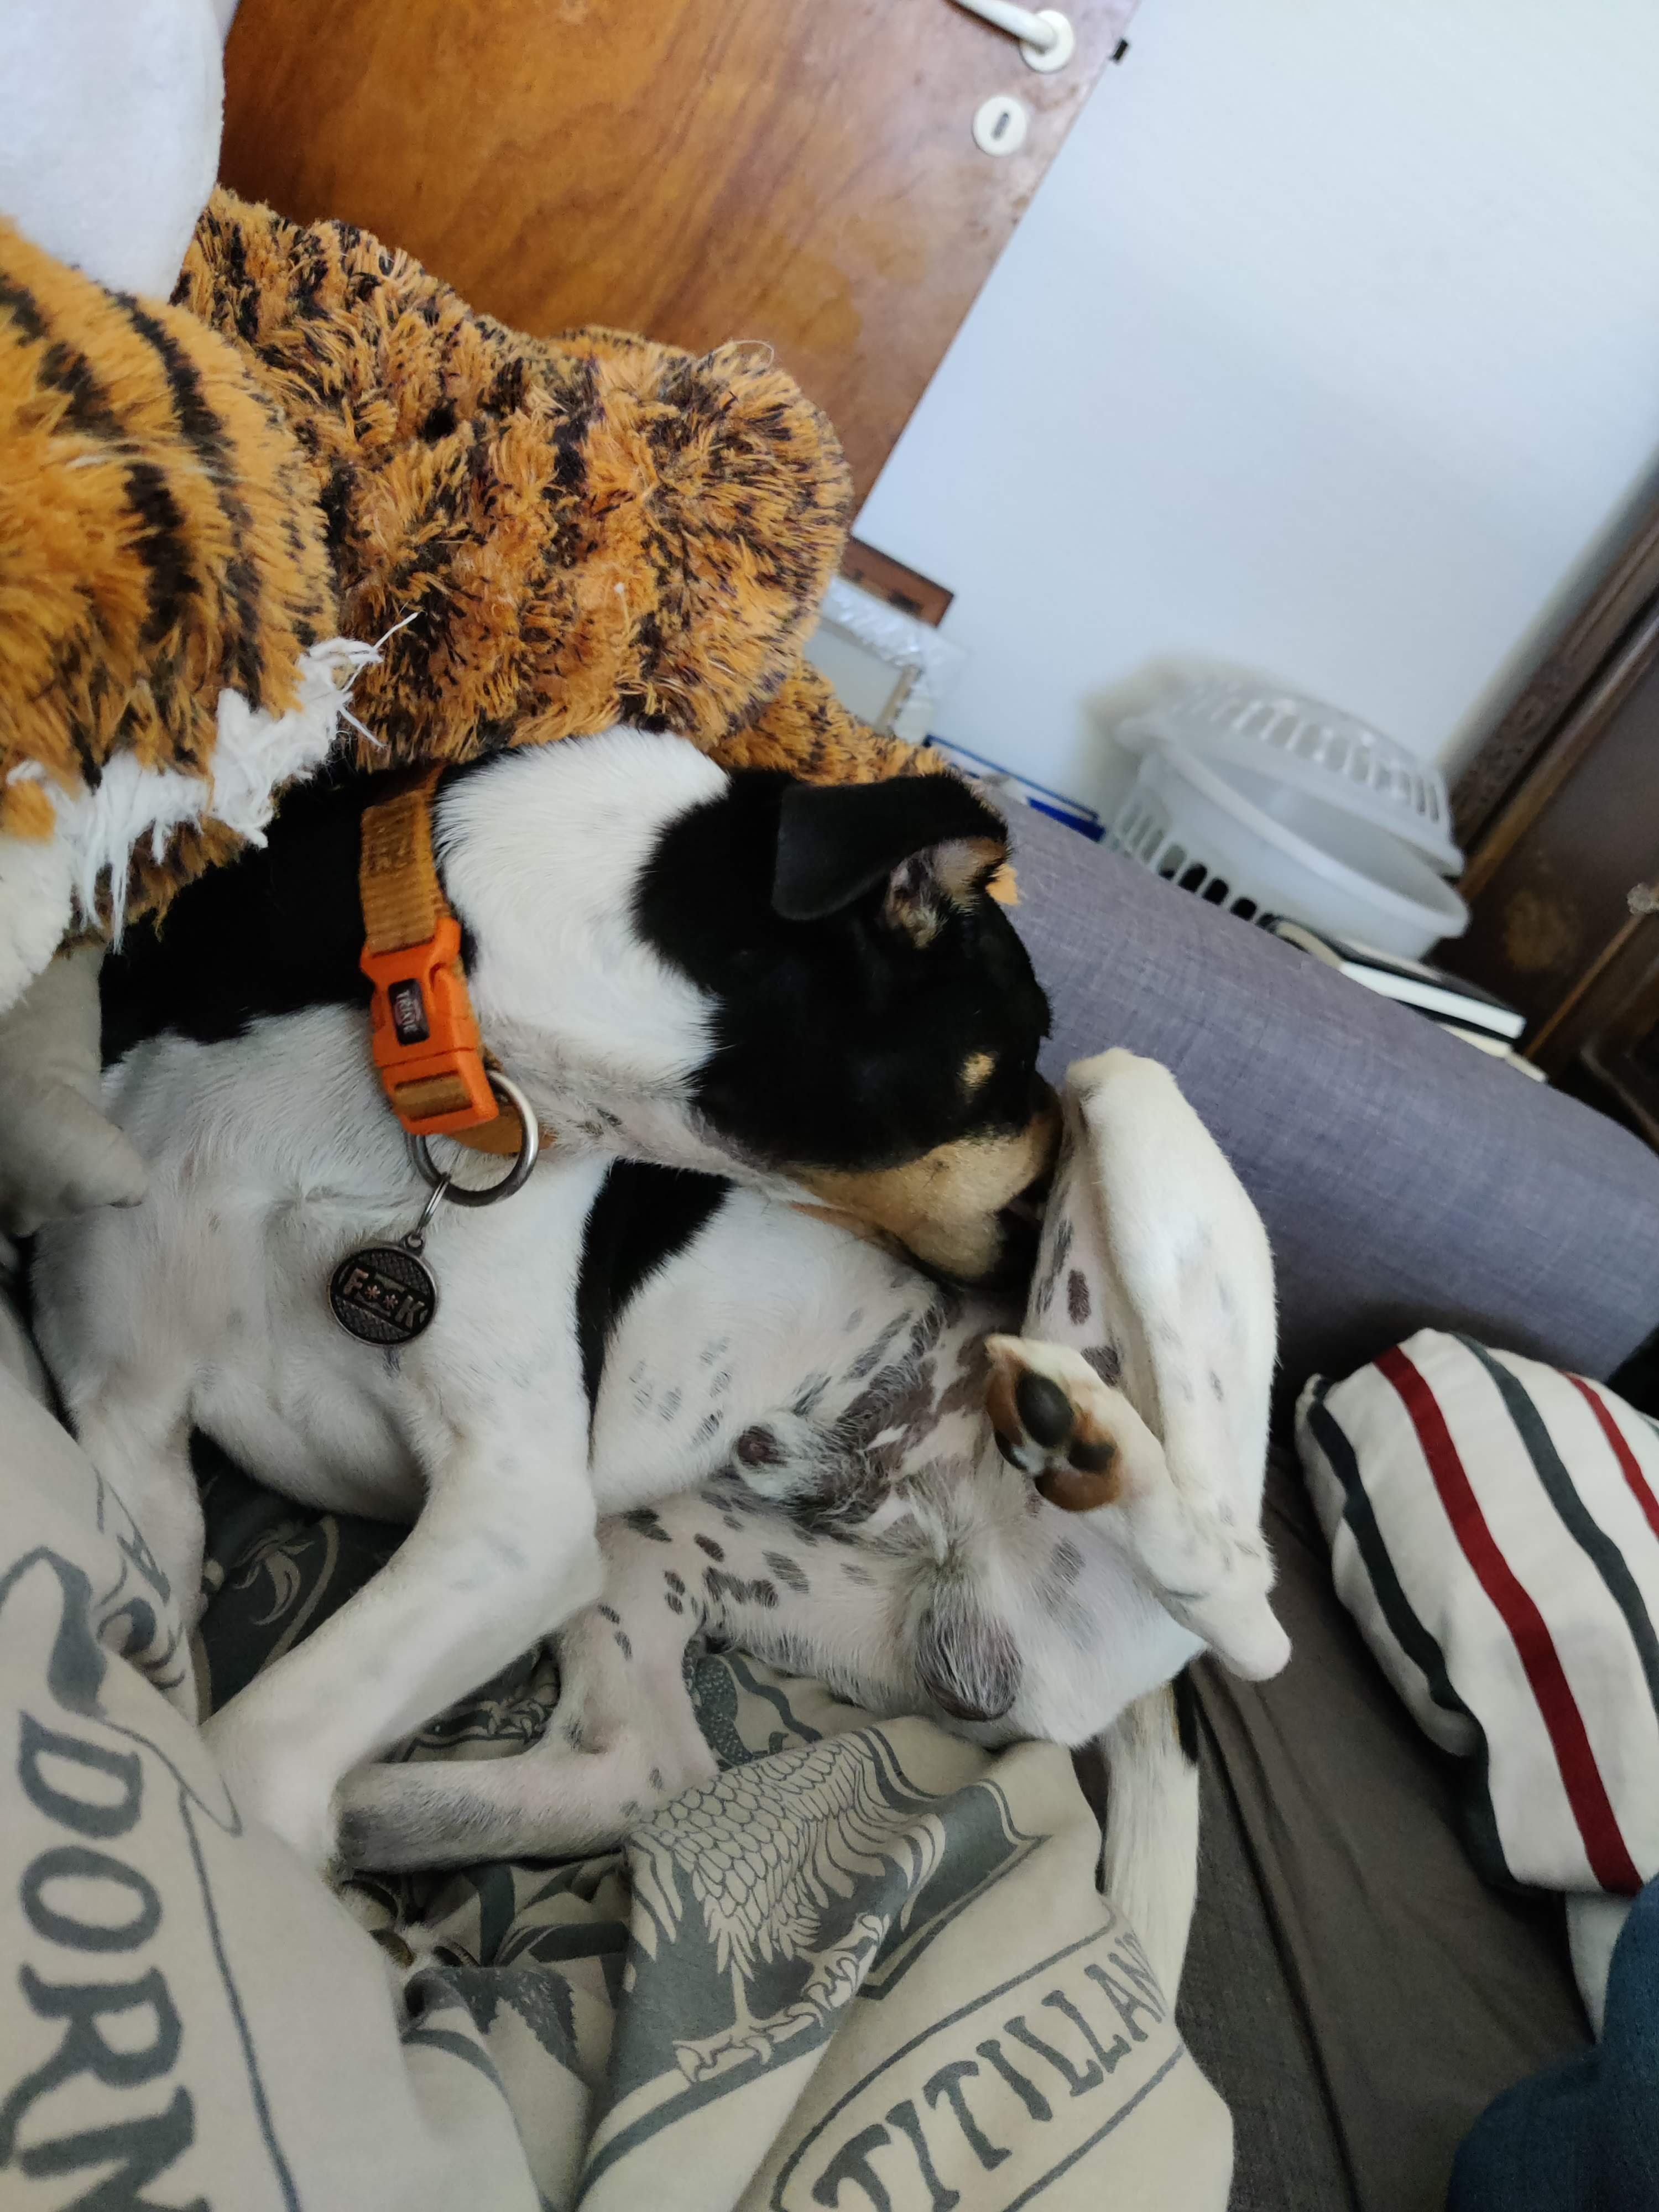Dog: (19, 698, 1326, 1897)
